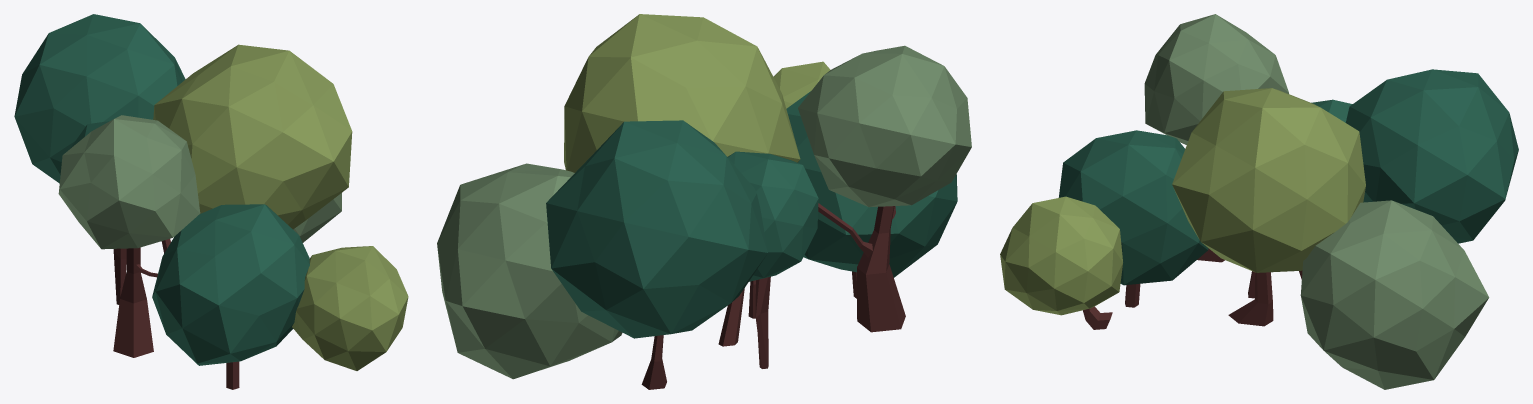
Rendered from lipa_sk1.fbx.
3 renders of one model, left to right at view 1: azimuth 30°, elevation 25°; view 2: azimuth 150°, elevation 25°; view 3: azimuth 270°, elevation 25°, orthographic. The views are drawn at different scales.
Parts seen in each view (by area): view 1: Icosphere.017, Icosphere.018, Icosphere.020, Icosphere.021, Icosphere.022, Cylinder.008, Icosphere.019, Cylinder.014, Cylinder.009; view 2: Icosphere.020, Icosphere.019, Icosphere.017, Icosphere.021, Icosphere.018, Icosphere.023, Cylinder.008, Icosphere.022, Cylinder.014, Cylinder.013, Cylinder.018, Cylinder.015; view 3: Icosphere.017, Icosphere.019, Icosphere.020, Icosphere.018, Icosphere.022, Icosphere.021, Cylinder.011, Icosphere.023, Cylinder.010.
Part boxes in pixels (box(x1,y1,x2,y2)): Icosphere.017: box(153, 44, 352, 229); Icosphere.018: box(152, 204, 309, 365); Icosphere.020: box(14, 14, 185, 183); Icosphere.021: box(58, 115, 200, 249); Icosphere.022: box(292, 246, 408, 370); Cylinder.008: box(113, 247, 153, 357); Icosphere.019: box(293, 193, 341, 242); Cylinder.014: box(113, 248, 126, 304); Cylinder.009: box(226, 361, 239, 389); Icosphere.020: box(546, 120, 767, 338); Icosphere.019: box(437, 163, 622, 379); Icosphere.017: box(564, 14, 800, 172); Icosphere.021: box(798, 45, 971, 207); Icosphere.018: box(786, 91, 957, 277); Icosphere.023: box(727, 151, 818, 281); Cylinder.008: box(857, 206, 905, 332); Icosphere.022: box(773, 61, 830, 108); Cylinder.014: box(755, 276, 770, 368); Cylinder.013: box(641, 335, 666, 389); Cylinder.018: box(718, 288, 744, 346); Cylinder.015: box(818, 203, 872, 257); Icosphere.017: box(1172, 88, 1365, 272); Icosphere.019: box(1300, 200, 1489, 389); Icosphere.020: box(1345, 69, 1518, 243); Icosphere.018: box(1058, 130, 1208, 285); Icosphere.022: box(1000, 196, 1122, 315); Icosphere.021: box(1144, 14, 1288, 144); Cylinder.011: box(1228, 272, 1273, 326); Icosphere.023: box(1311, 99, 1352, 122); Cylinder.010: box(1083, 306, 1112, 329).
Size of the model in its own units: 83.19 by 59.37 by 107.
